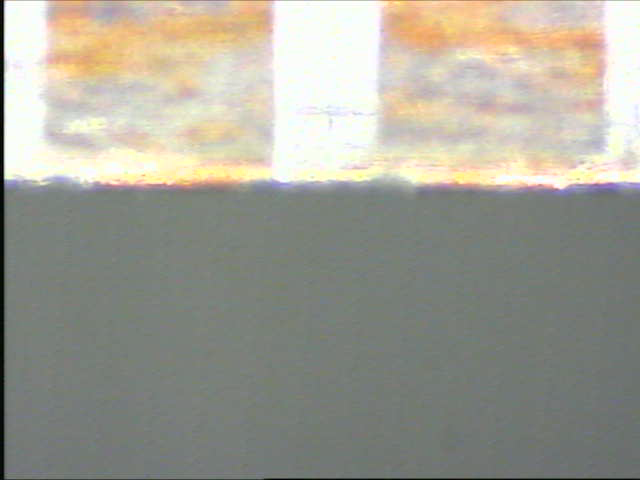line: (270, 1, 381, 176)
